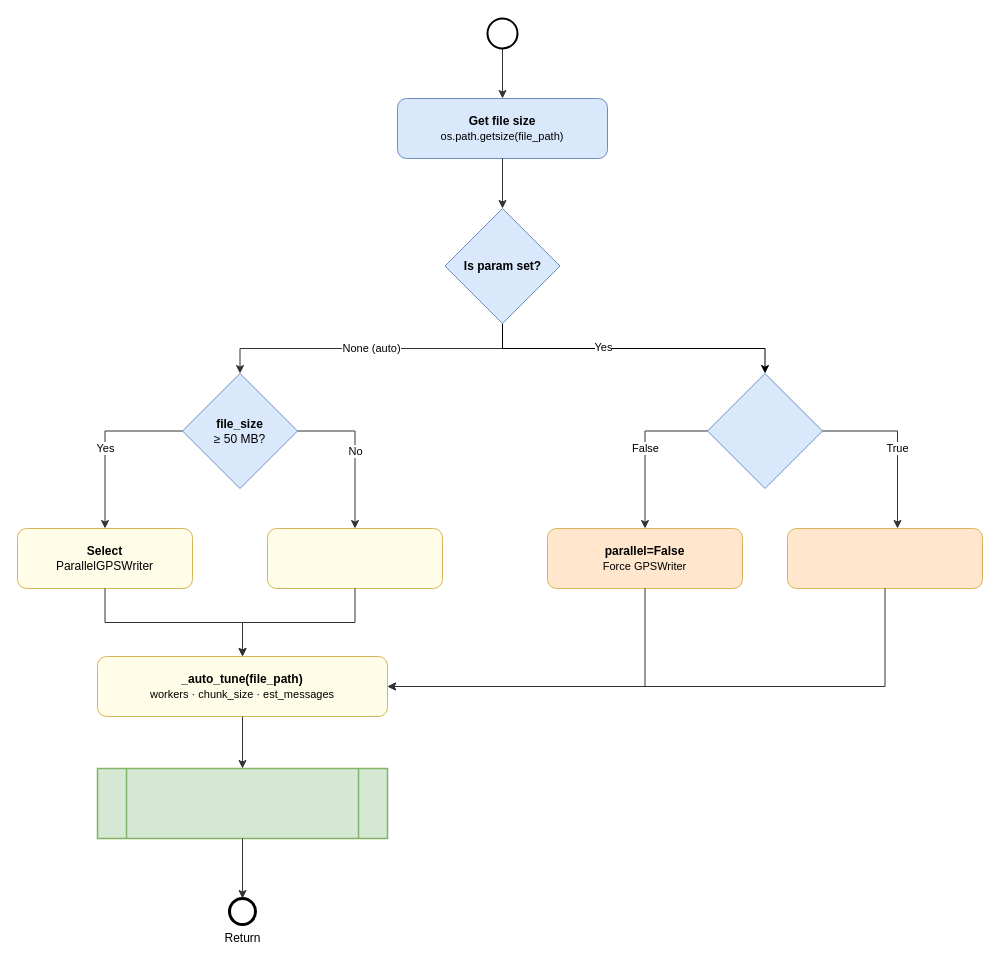
Some shapes in this 1000 by 962 pixel diagram are drawn without their labels. The shapes that lost their labels are listed below. From the top down, each one's box as (x1, y1, x2, y2) in pixels, then its label:
(706, 372, 822, 488): parallel value
(266, 528, 442, 588): Select GPSWriter
(786, 528, 982, 588): parallel=True Force ParallelGPSWriter
(96, 767, 388, 839): write_to_db() parse → accumulate → chunk flush → finalize
